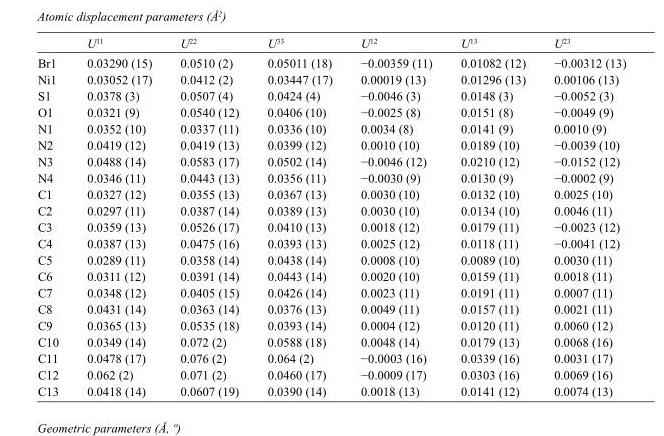table: (36, 36, 625, 397)
table column: (345, 36, 445, 397), (445, 36, 539, 397), (72, 36, 165, 397), (252, 36, 345, 397), (165, 36, 252, 397), (539, 36, 625, 397), (36, 36, 72, 397)
table column header: (36, 36, 625, 52)
table row: (36, 52, 625, 71), (36, 103, 625, 120), (36, 136, 625, 153), (36, 185, 625, 202), (36, 218, 625, 235), (36, 267, 625, 284), (36, 300, 625, 317), (36, 333, 625, 350), (36, 36, 625, 52), (36, 71, 625, 87), (36, 87, 625, 103), (36, 120, 625, 136), (36, 153, 625, 169), (36, 169, 625, 185), (36, 202, 625, 218), (36, 235, 625, 251), (36, 251, 625, 267), (36, 284, 625, 300), (36, 317, 625, 333), (36, 350, 625, 366), (36, 366, 625, 382), (36, 382, 625, 397)
